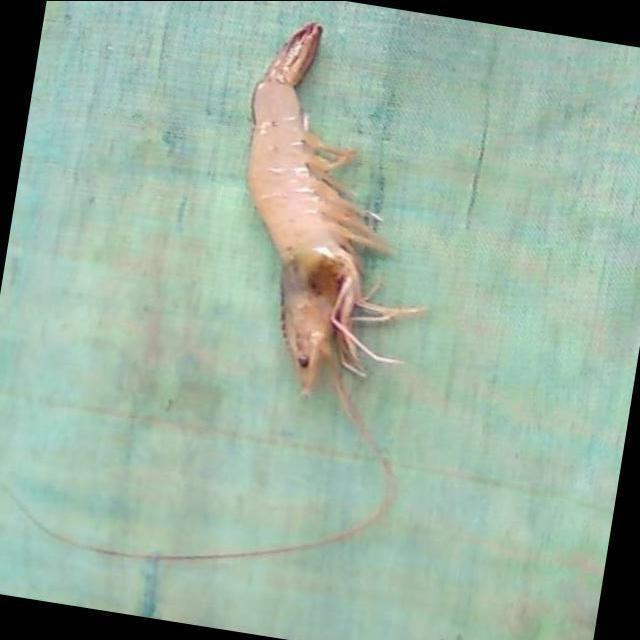shrimp: (247, 21, 423, 393)
